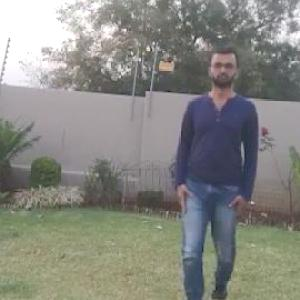follow: (176, 54, 251, 294)
